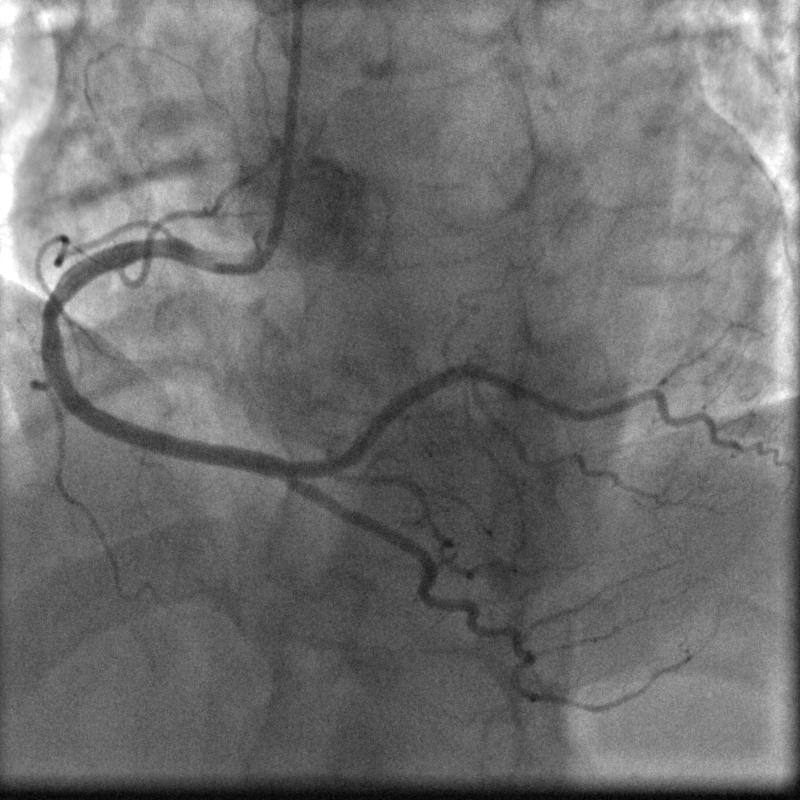Stenosis: (38, 296, 66, 339)
